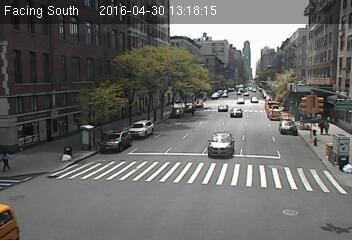neg: (210, 126, 235, 159), (3, 65, 20, 88), (61, 142, 76, 161), (138, 118, 152, 137), (320, 216, 333, 233), (263, 58, 275, 74), (244, 33, 255, 48), (55, 60, 66, 75), (228, 71, 239, 85), (242, 190, 253, 204), (247, 2, 257, 14), (254, 95, 263, 107), (291, 8, 299, 19), (174, 71, 182, 81)
pos: (2, 151, 18, 173), (315, 117, 330, 137), (323, 120, 335, 135)
